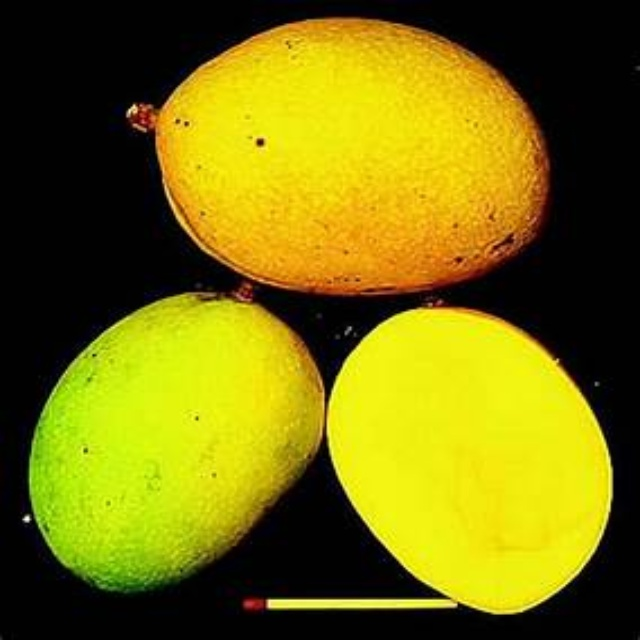mango: (125, 19, 564, 295), (34, 289, 325, 589), (336, 312, 622, 610)
